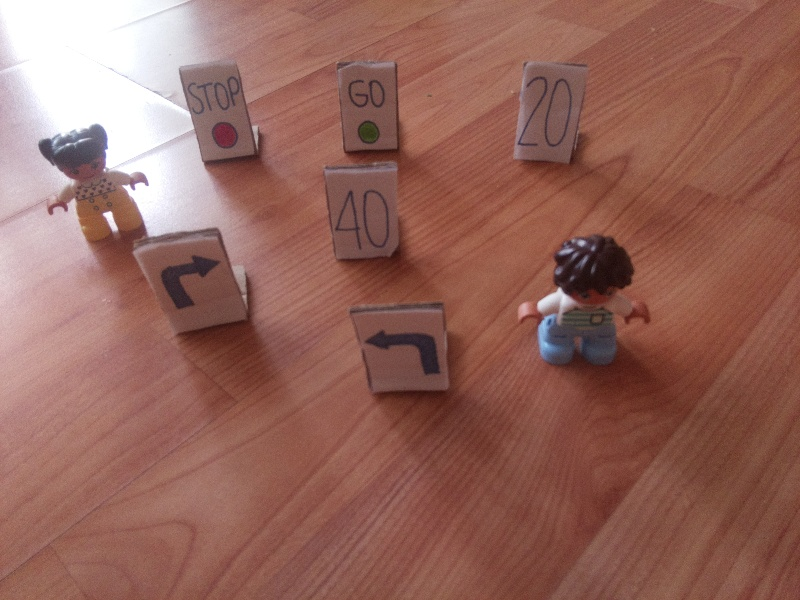20: (521, 76, 572, 158)
40: (335, 184, 395, 256)
go: (342, 72, 390, 143)
person: (519, 231, 656, 372), (35, 125, 152, 238)
stop: (185, 73, 244, 147)
turn left: (365, 324, 442, 381)
turn right: (160, 251, 221, 315)
